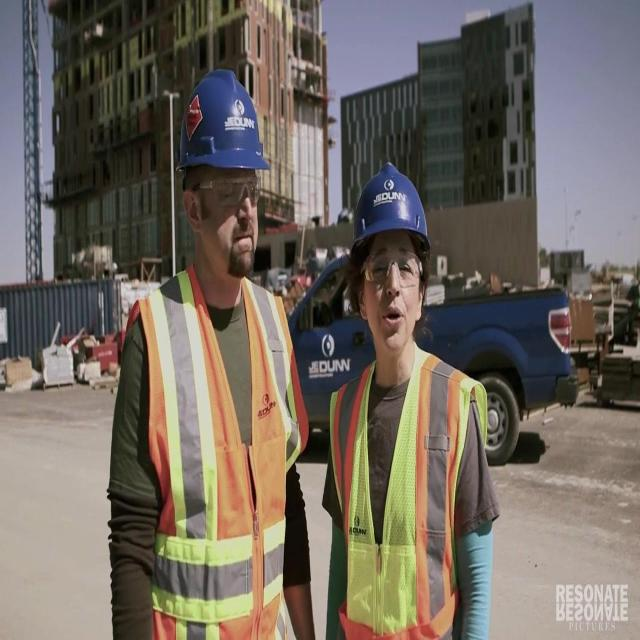Vest: (126, 268, 312, 638), (328, 349, 488, 636)
